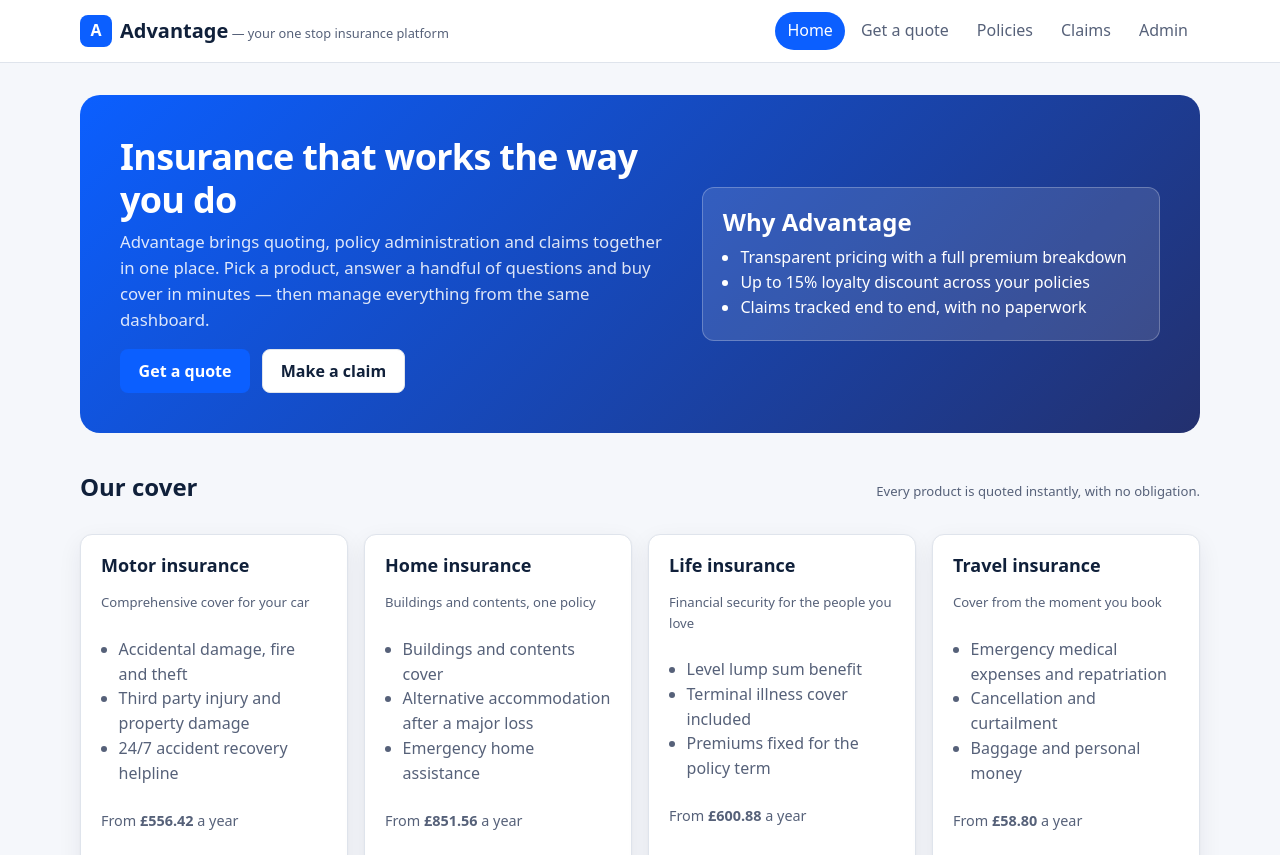
Advantage platform › sets the platform up from the admin portal
Click the link "Admin".
click(1164, 30)  # box left=1139, top=19, right=1188, bottom=41
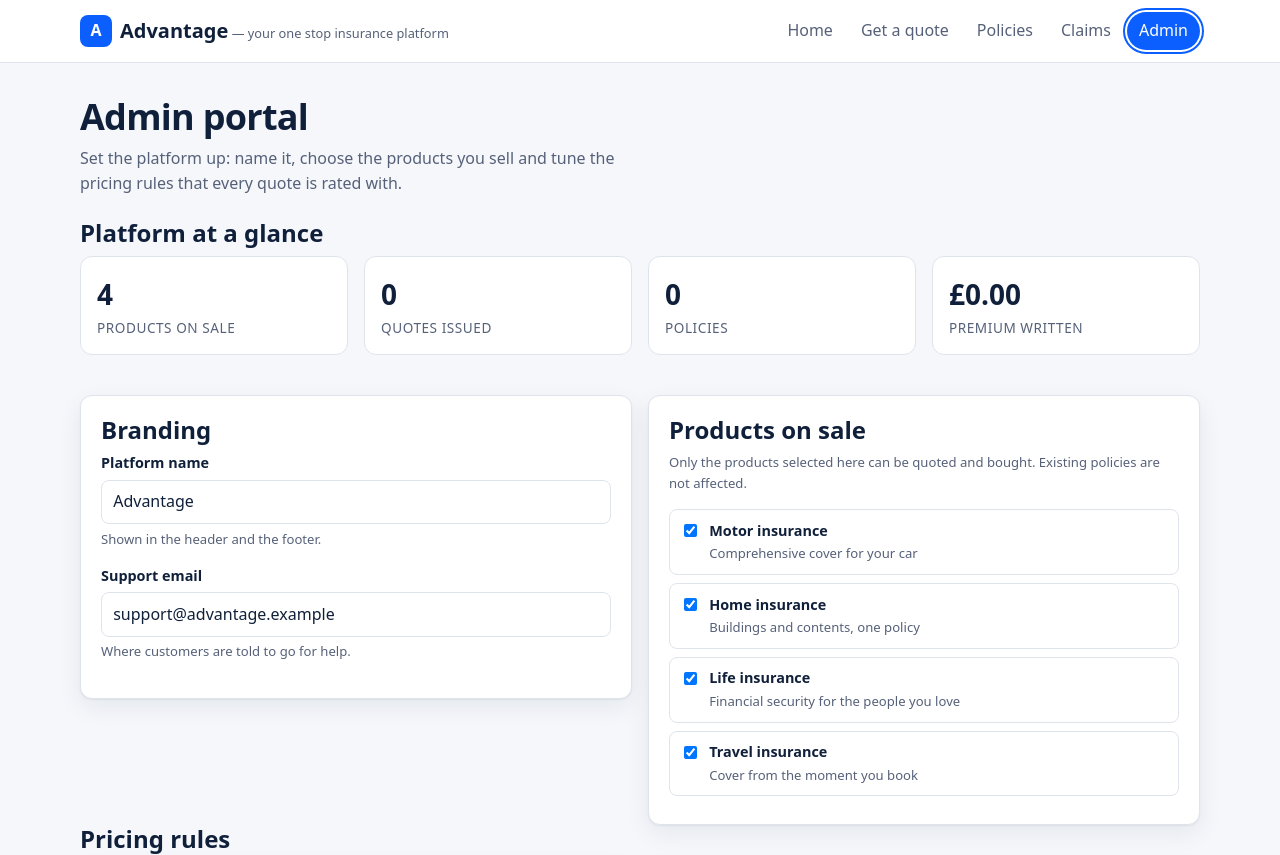
Check: the heading "Admin portal" is shown, box left=80, top=92, right=308, bottom=141
Replace the text in the field labelled "Platform name" with "Northwind Cover" at point(356, 502), box left=101, top=480, right=611, bottom=524
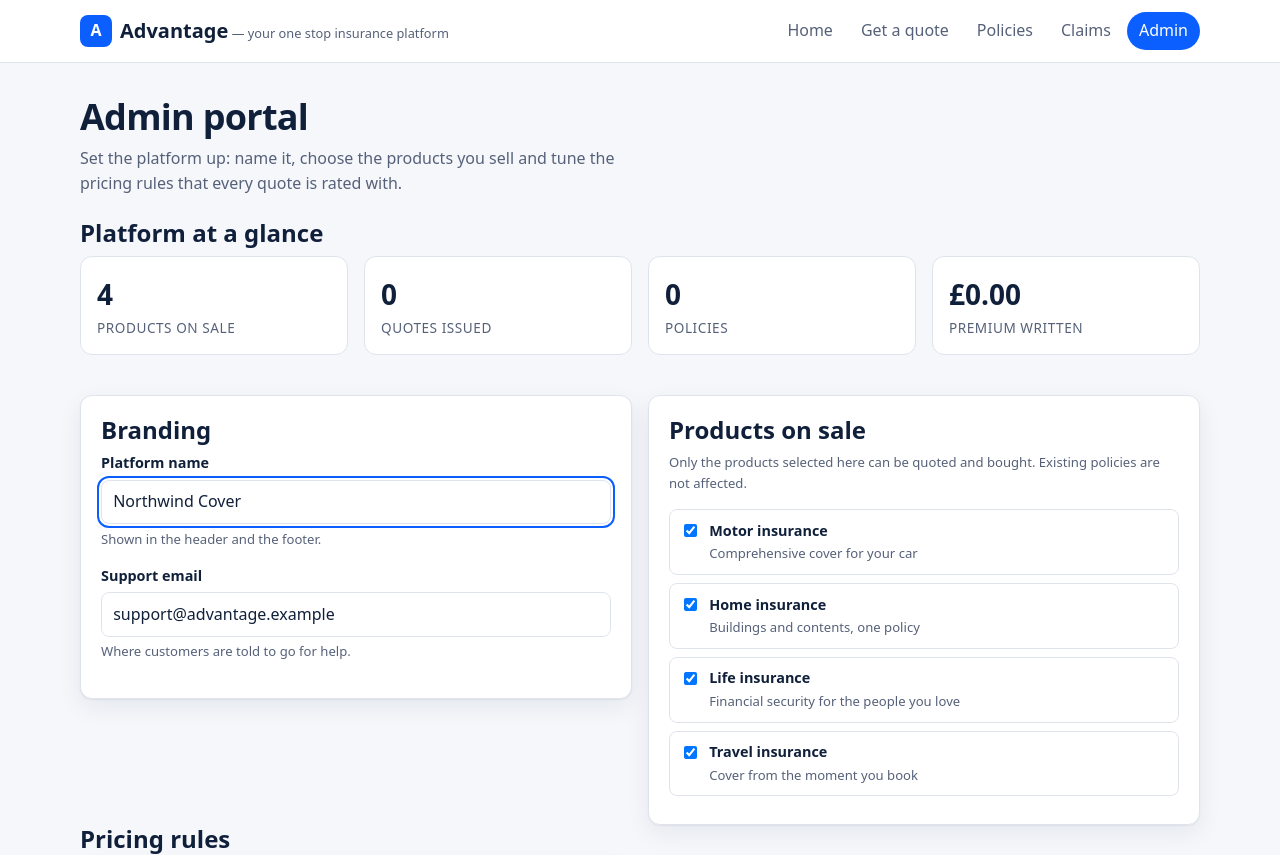
Click the checkbox labelled "Travel insurance Cover from the moment you book".
click(690, 752)  # box left=684, top=746, right=697, bottom=759
(page scrolled)
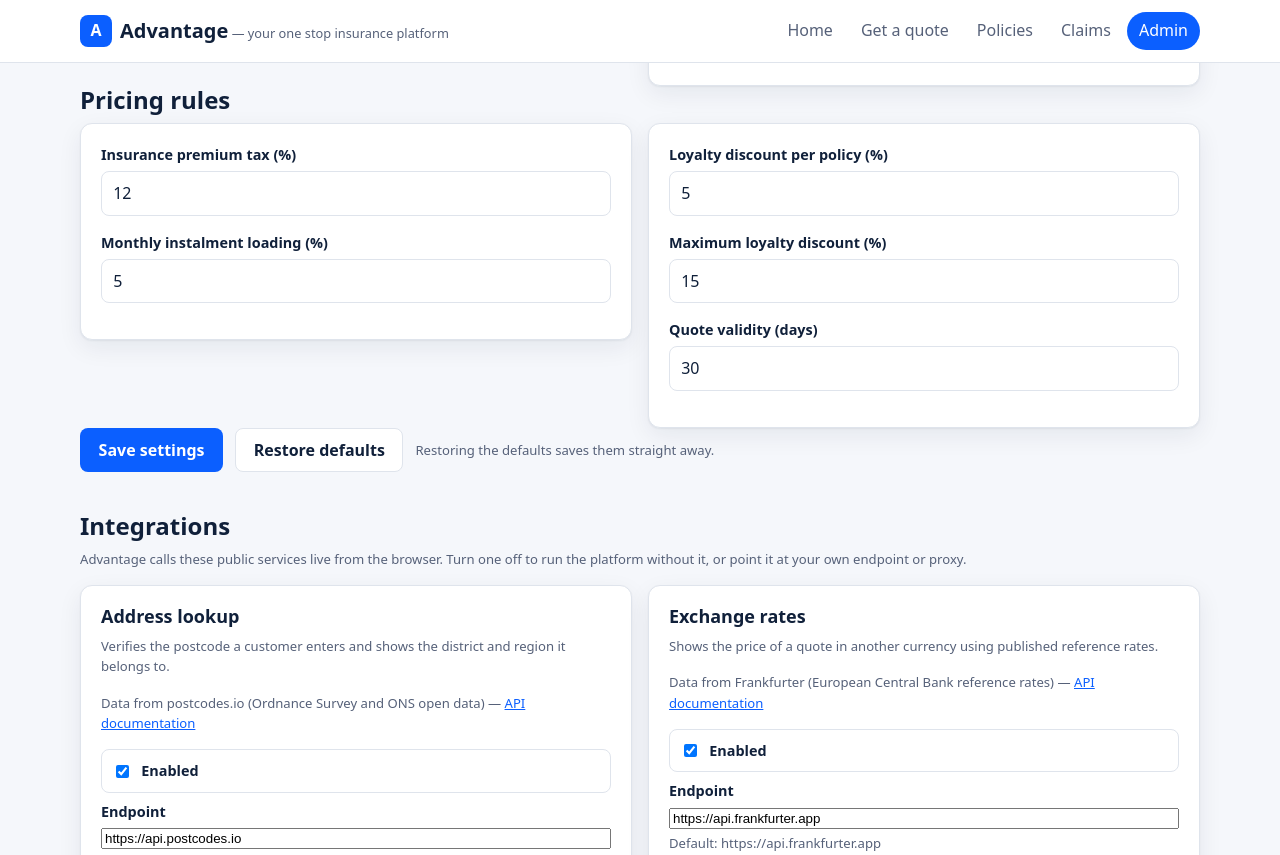
Click the button "Save settings".
click(152, 450)  # box left=80, top=428, right=223, bottom=472
(page scrolled)
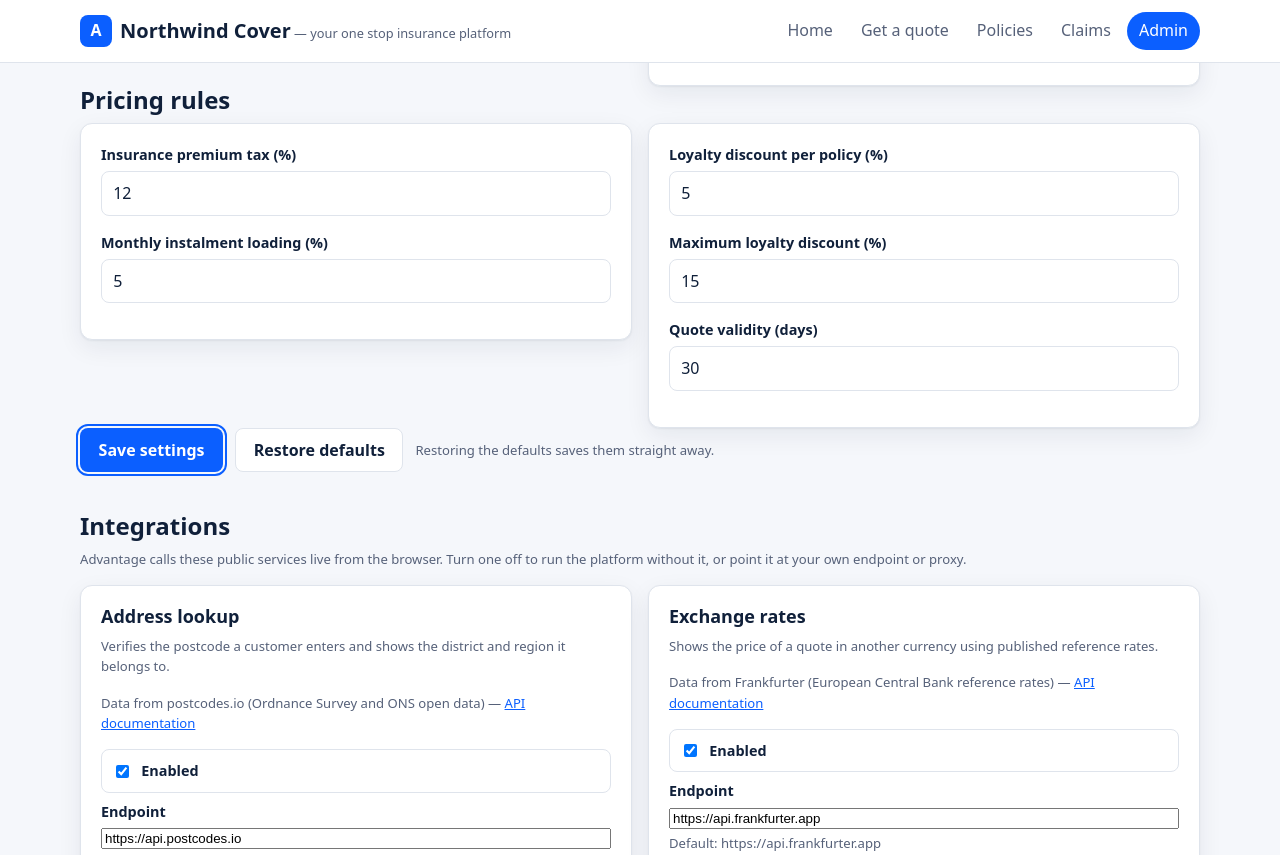
Check: the header shows "Northwind Cover", box left=80, top=15, right=511, bottom=47
Click the link "Home".
click(810, 30)  # box left=787, top=19, right=833, bottom=41
(page scrolled)
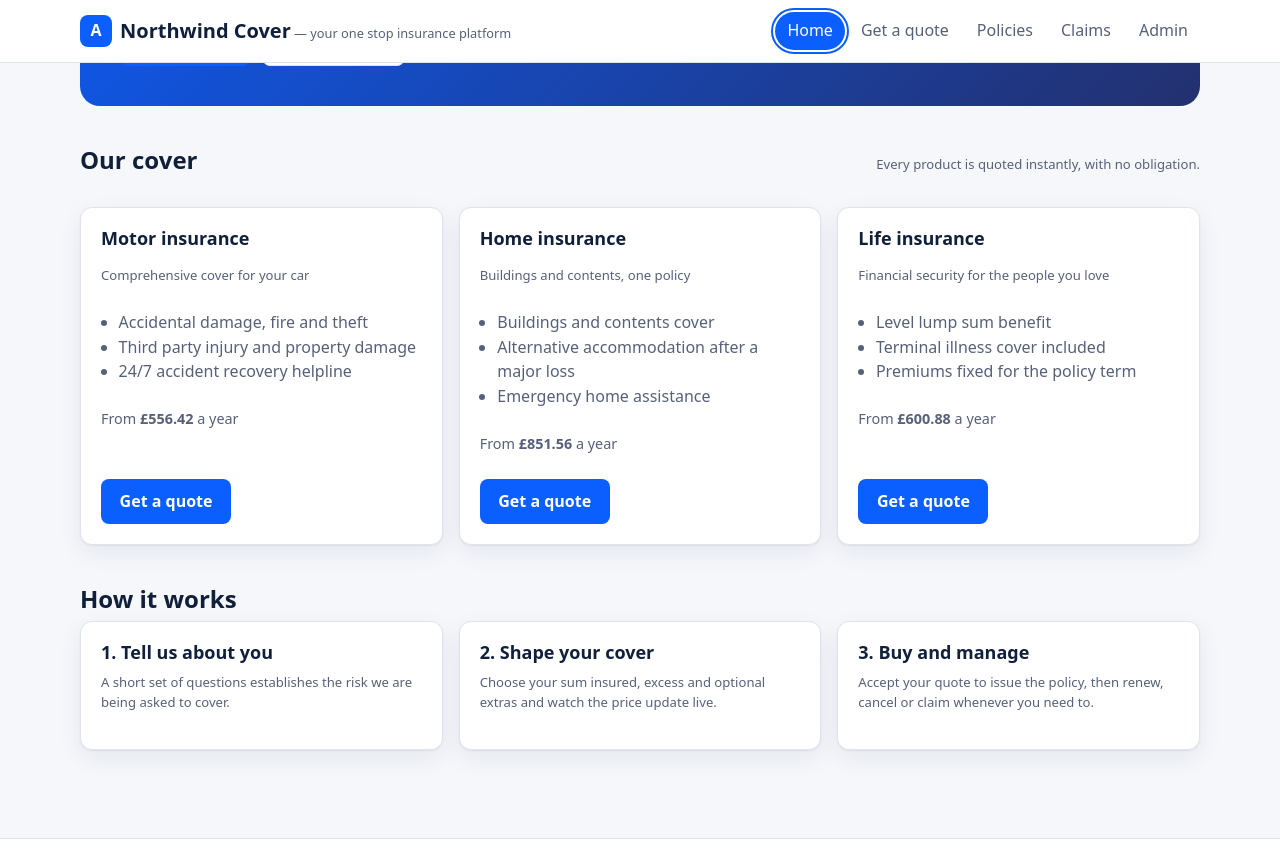
Check: the heading "Motor insurance" is shown, box left=101, top=226, right=249, bottom=250
Check: the text "Travel insurance" is gone
